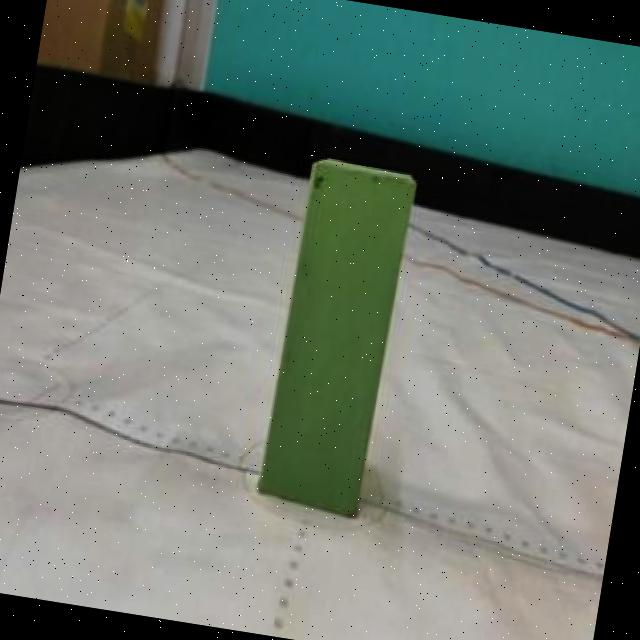greenbox: (258, 153, 417, 525)
